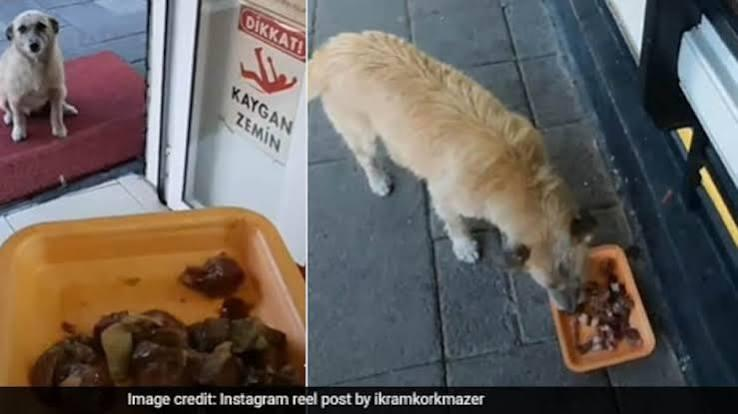adult_dog: (310, 28, 597, 312), (0, 8, 80, 143)
